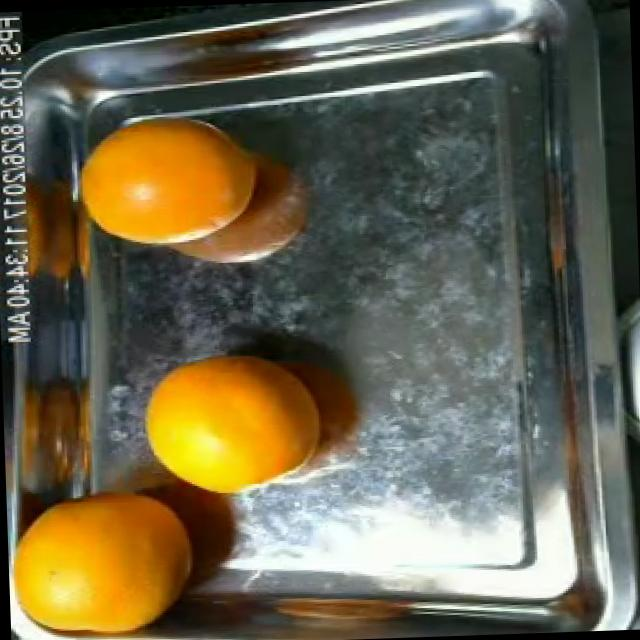Fruit: (120, 330, 342, 504), (5, 472, 214, 640), (62, 102, 280, 248), (2, 364, 88, 507)
